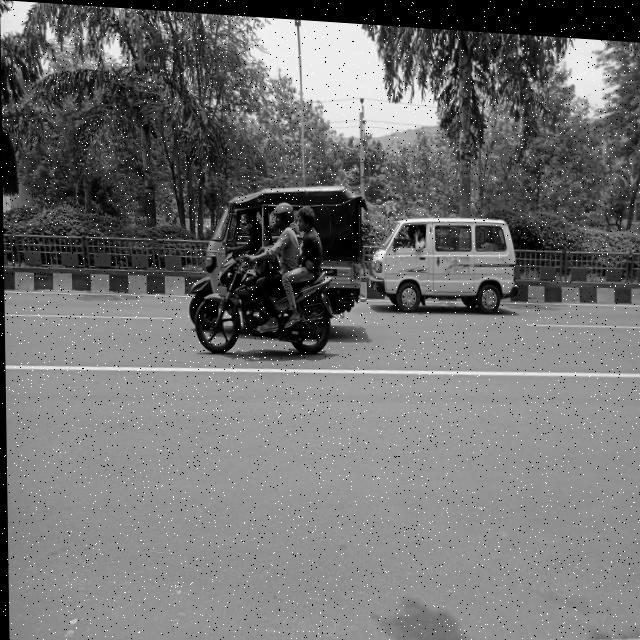bike: (194, 243, 338, 357)
car: (374, 209, 516, 317)
